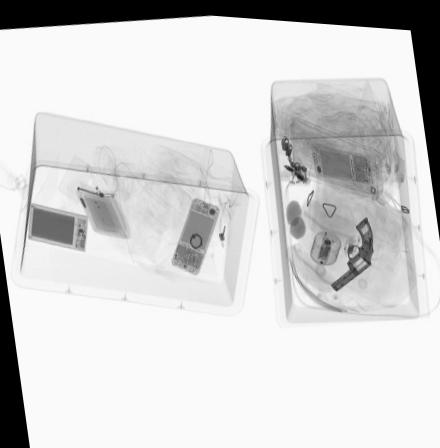Powerbank: (26, 200, 88, 251)
